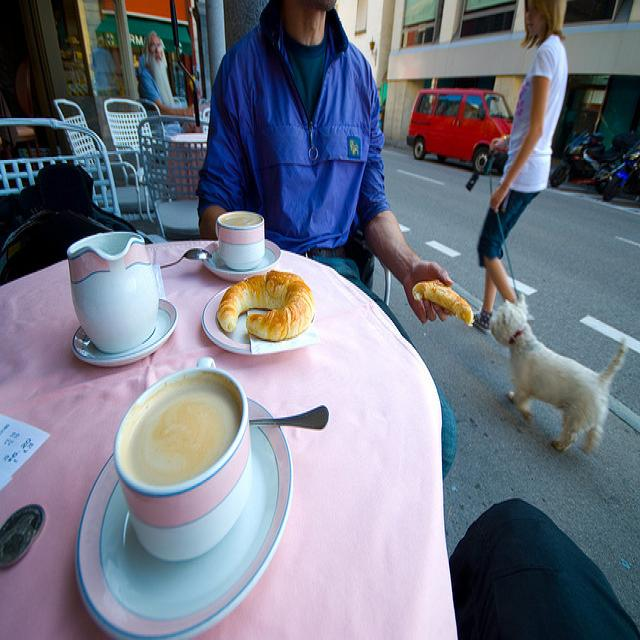motor: (550, 129, 640, 194), (603, 141, 640, 204)
